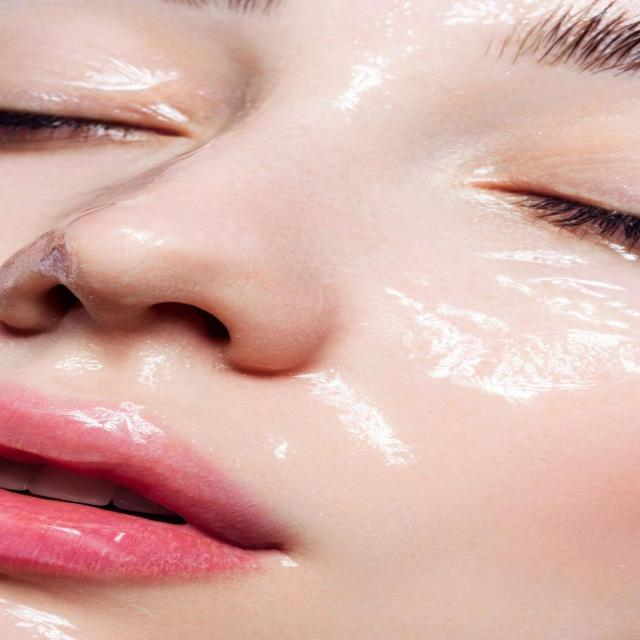oily: (393, 306, 566, 394), (314, 45, 432, 147), (62, 194, 195, 276), (88, 390, 221, 462), (71, 40, 215, 106)
